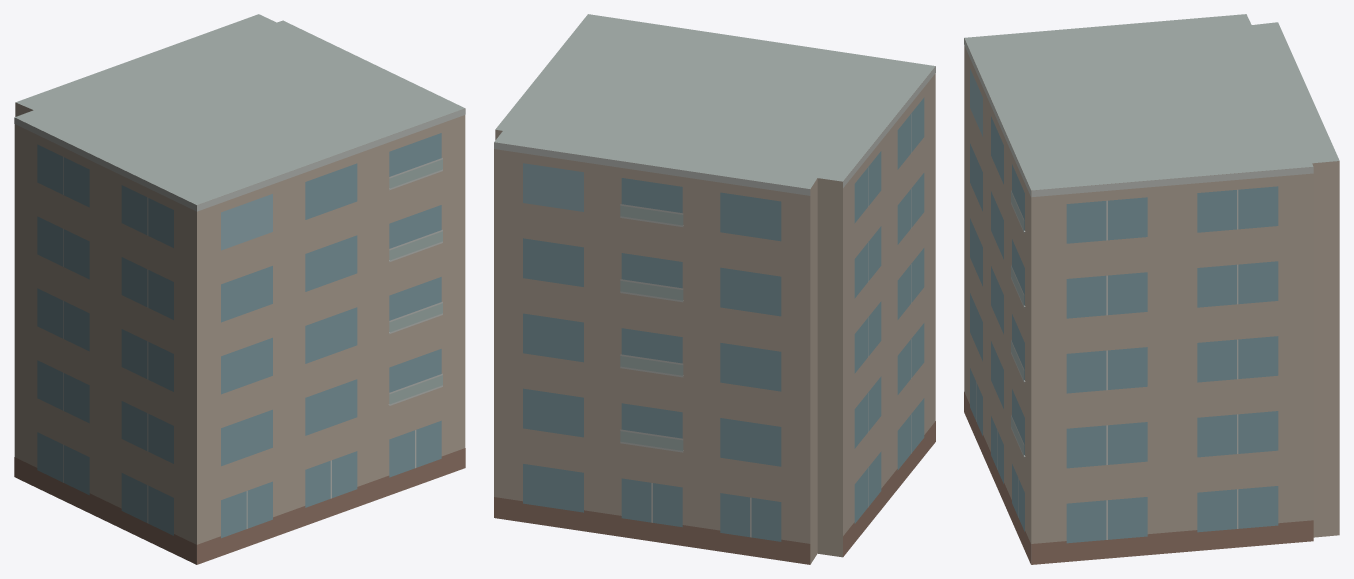
The model's file is survey-upis-32972731.glb.
3 renders of one model, left to right at view 1: azimuth 30°, elevation 25°; view 2: azimuth 150°, elevation 25°; view 3: azimuth 270°, elevation 25°, orthographic. The views are drawn at different scales.
Parts seen in each view (by area): view 1: survey-upis-32972731.tmp; view 2: survey-upis-32972731.tmp; view 3: survey-upis-32972731.tmp.
Boxes of the visible parts, box(x1,y1,x2,y2) form: survey-upis-32972731.tmp: box(14, 14, 465, 564); survey-upis-32972731.tmp: box(494, 14, 935, 564); survey-upis-32972731.tmp: box(964, 14, 1339, 564).
Size of the model in its own units: 13.66 by 13.5 by 12.28.
